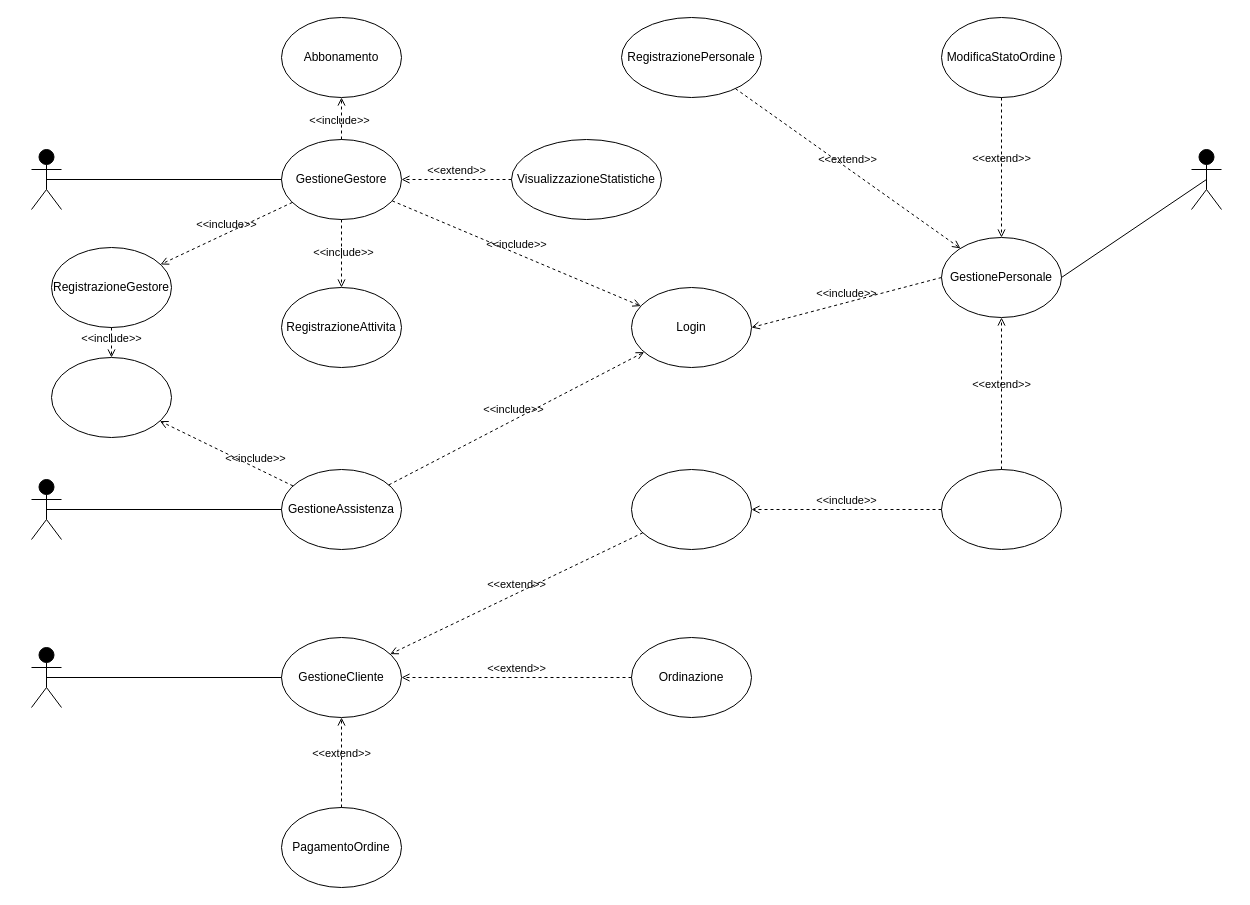
This 1250x905 diagram has some shape labels left out. The centre of each missing label's shape, as x and y in pixels:
"Assistenza" goes at (x=46, y=509).
"Cliente" goes at (x=46, y=677).
"Gestore" goes at (x=46, y=179).
"ModificaOrdine" goes at (x=1001, y=509).
"Personale" goes at (x=1206, y=179).
"RichiamoPersonale" goes at (x=691, y=509).
"Verifica" goes at (x=111, y=397).
